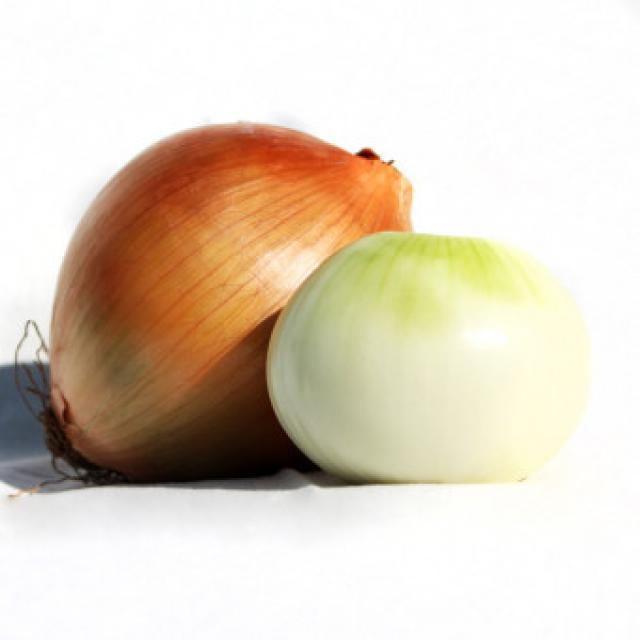Onion: (18, 120, 411, 487), (264, 229, 584, 485)
